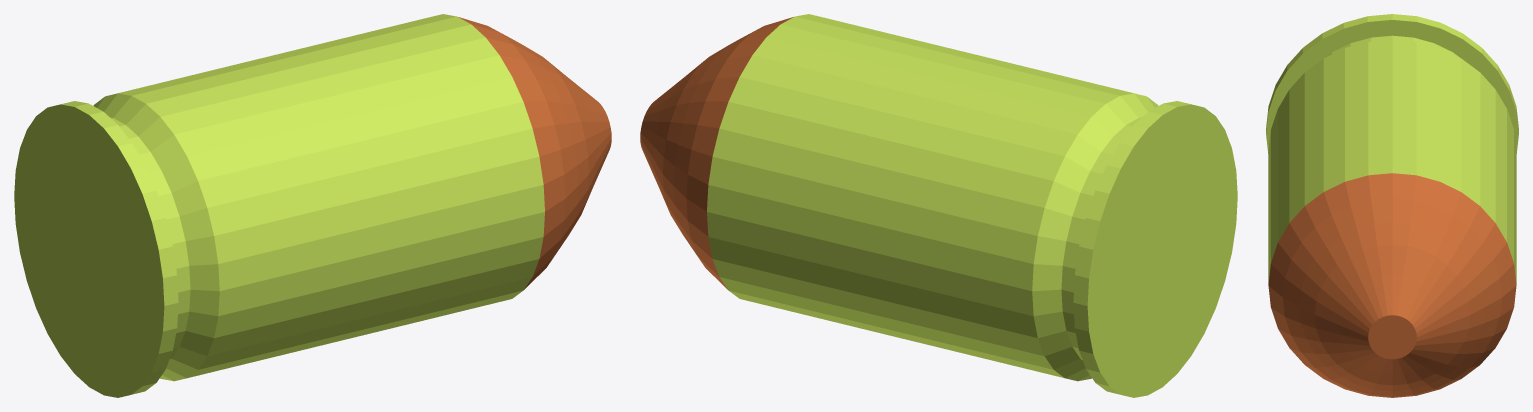
File: Ammu.fbx
3 renders of one model, left to right at view 1: azimuth 30°, elevation 25°; view 2: azimuth 150°, elevation 25°; view 3: azimuth 270°, elevation 25°, orthographic. The views are drawn at different scales.
Visible parts, largest first — view 1: Gold; view 2: Gold; view 3: Gold.
Part boxes in pixels (<box>): Gold: <box>14,14,611,397</box>; Gold: <box>640,14,1237,397</box>; Gold: <box>1266,14,1518,397</box>.
Size of the model in its own units: 195 by 100 by 100.
